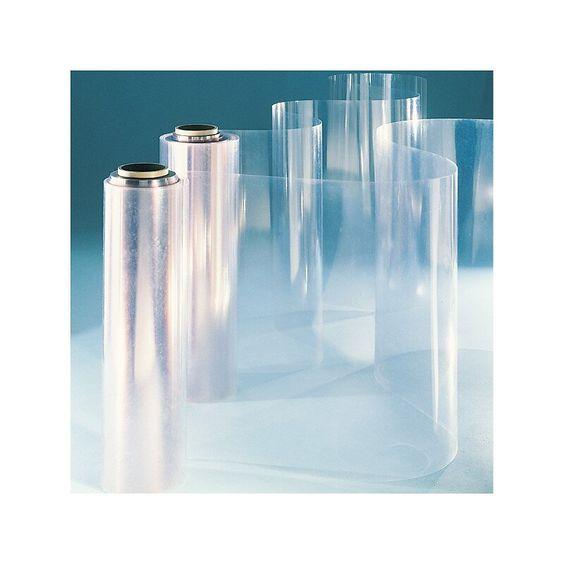PVC: (101, 115, 496, 495)
